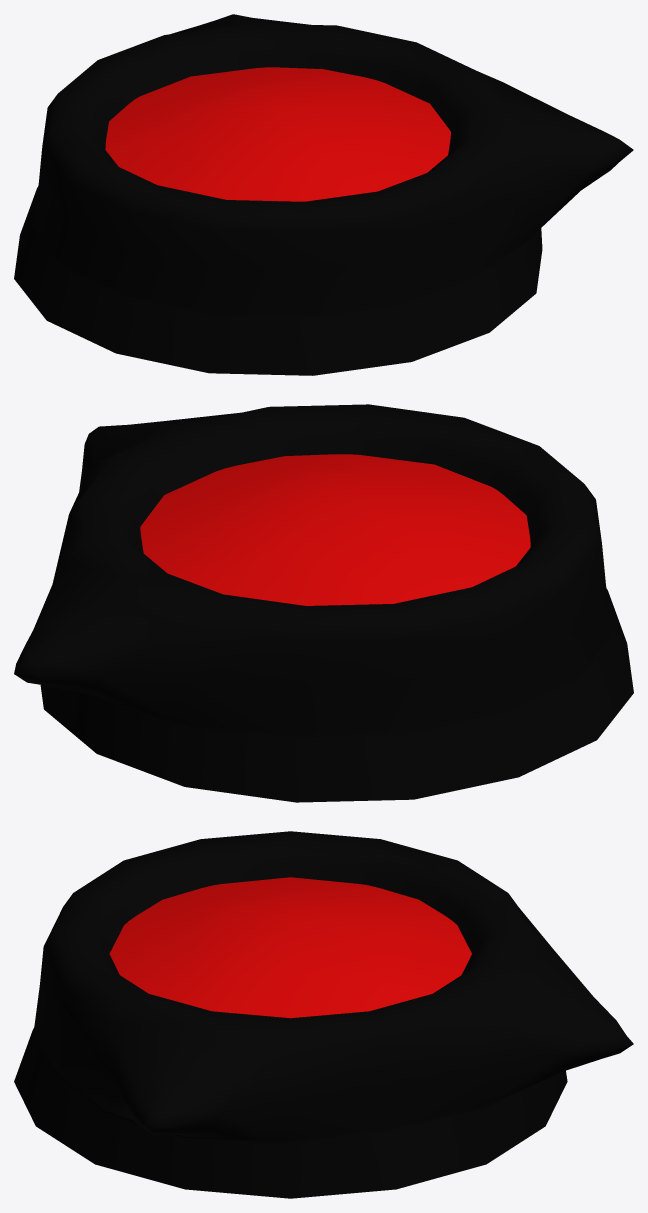
The model's file is Bowl.fbx.
3 views of the same model, one above another, from view 1: azimuth 30°, elevation 25°; view 2: azimuth 150°, elevation 25°; view 3: azimuth 270°, elevation 25° (orthographic). The views are drawn at different scales.
Parts seen in each view (by area): view 1: Pote; view 2: Pote; view 3: Pote.
Part boxes in pixels (box(x1,y1,x2,y2)): Pote: box(14, 14, 633, 375); Pote: box(14, 404, 633, 802); Pote: box(14, 831, 633, 1198).
Bounding box in the file's own units: 65.86 × 19.31 × 65.86.
